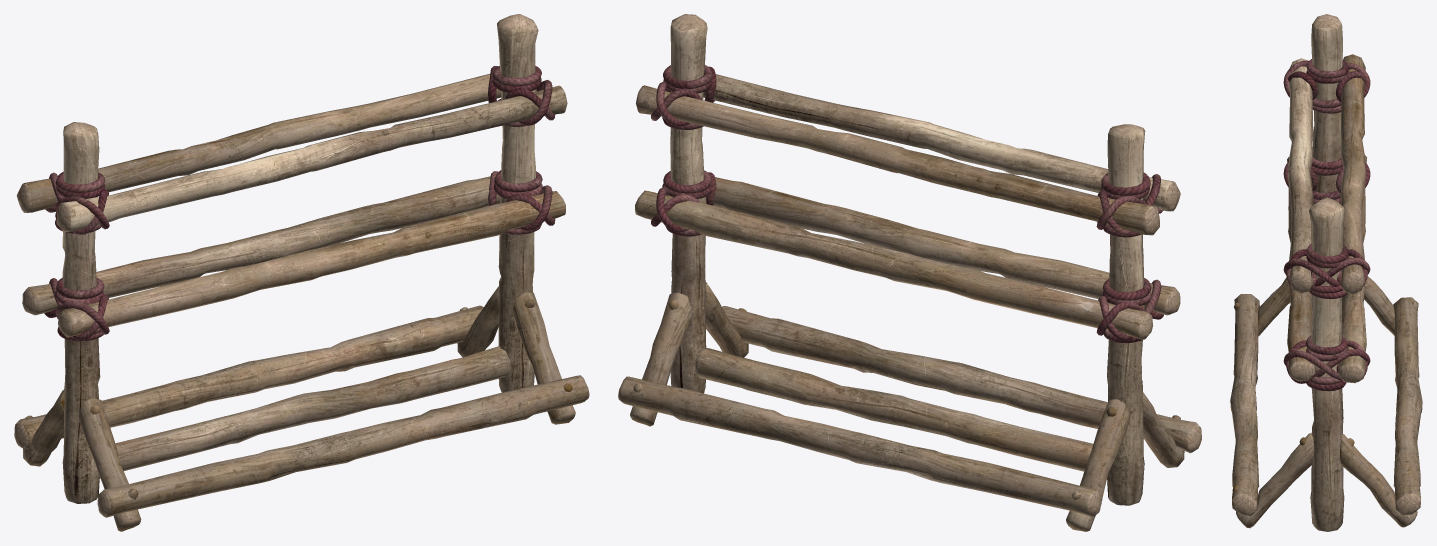
3 views of the same model, side by side, from view 1: azimuth 30°, elevation 25°; view 2: azimuth 150°, elevation 25°; view 3: azimuth 270°, elevation 25° (orthographic). The views are drawn at different scales.
Visible parts, largest first — view 1: SM_Weapons_Rack_01v1_LOD0; view 2: SM_Weapons_Rack_01v1_LOD0; view 3: SM_Weapons_Rack_01v1_LOD0.
Part boxes in pixels (box(x1,y1,x2,y2)): SM_Weapons_Rack_01v1_LOD0: box(14, 14, 589, 531); SM_Weapons_Rack_01v1_LOD0: box(618, 14, 1201, 531); SM_Weapons_Rack_01v1_LOD0: box(1230, 14, 1422, 531).
Size of the model in its own units: 2.53 by 1.76 by 0.9392.
Materials: 1 (1 with a texture image).
